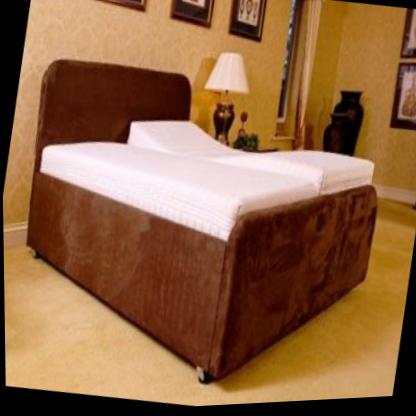Bed: (1, 41, 396, 416)
